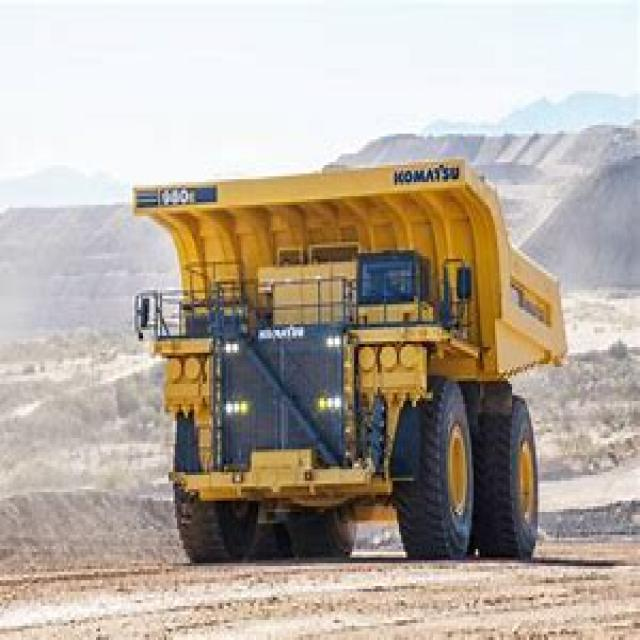dump_truck: (120, 142, 580, 572)
